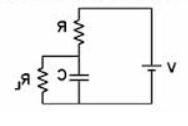Capacitor: (66, 65, 91, 88)
